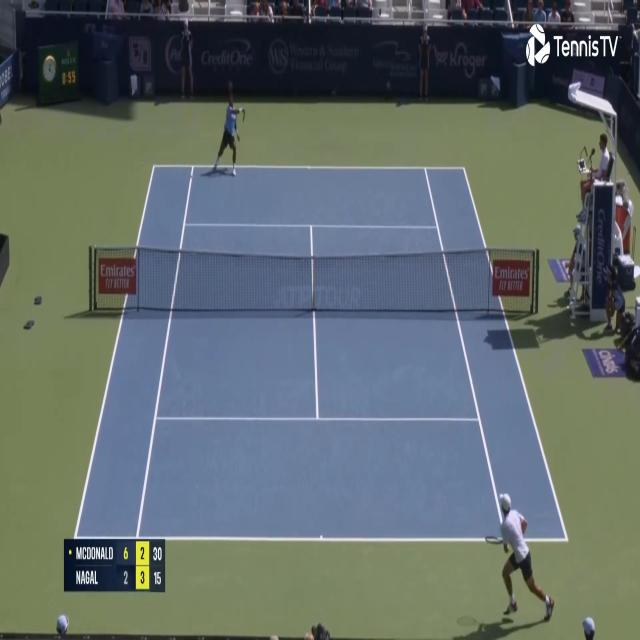tennis-player: (481, 490, 558, 634), (210, 86, 246, 179)
